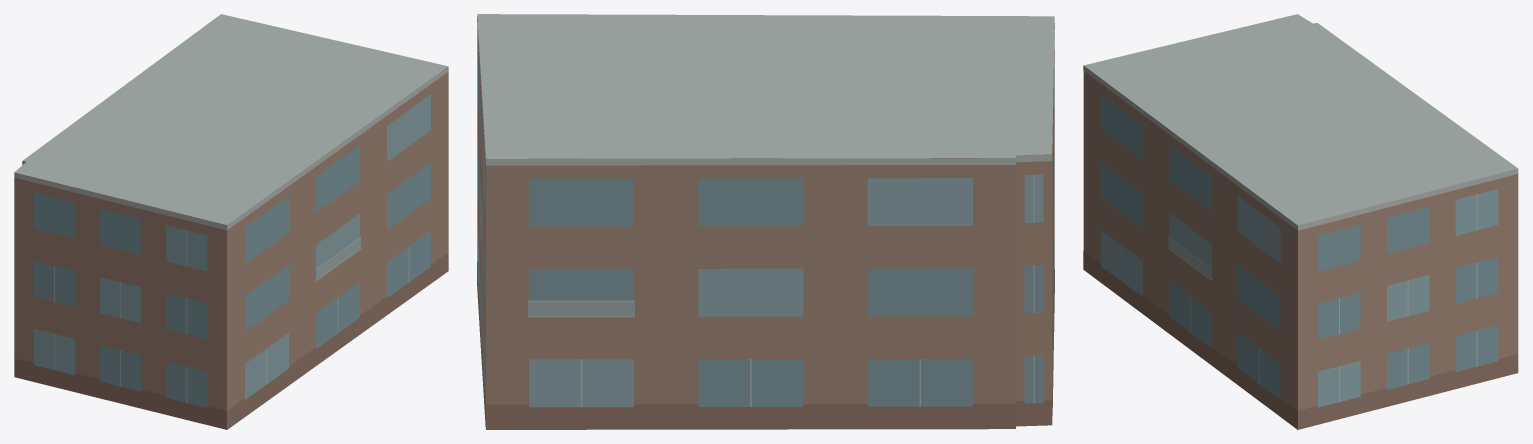
Rendered from survey-upis-32590305.glb.
3 views of the same model, side by side, from view 1: azimuth 30°, elevation 25°; view 2: azimuth 150°, elevation 25°; view 3: azimuth 270°, elevation 25° (orthographic). The views are drawn at different scales.
Visible parts, largest first — view 1: survey-upis-32590305.tmp; view 2: survey-upis-32590305.tmp; view 3: survey-upis-32590305.tmp.
Boxes of the visible parts, box(x1,y1,x2,y2) form: survey-upis-32590305.tmp: box(14, 14, 448, 429); survey-upis-32590305.tmp: box(477, 14, 1054, 429); survey-upis-32590305.tmp: box(1083, 14, 1518, 429).
Bounding box in the file's own units: 21.32 × 9.6 × 18.53.
